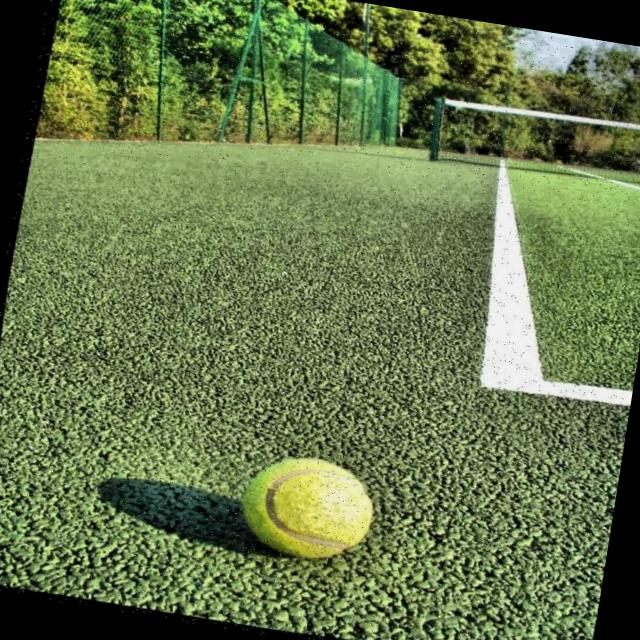Tennis Ball: (218, 442, 403, 582)
